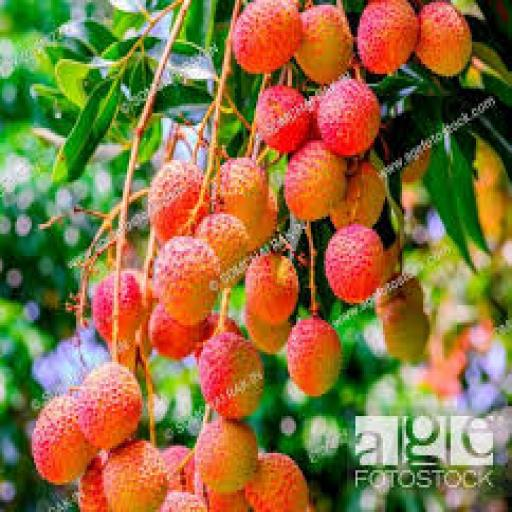lychee: (32, 397, 97, 484), (155, 237, 220, 324), (77, 362, 141, 450), (199, 333, 264, 418), (233, 0, 302, 73), (284, 141, 346, 221), (324, 224, 385, 302), (318, 79, 380, 155), (195, 419, 258, 492), (104, 441, 169, 511), (149, 160, 203, 243), (377, 276, 429, 361), (358, 0, 418, 73), (297, 5, 353, 83), (288, 318, 342, 396), (415, 3, 471, 76), (195, 212, 249, 287), (214, 158, 268, 226), (246, 254, 298, 324), (246, 453, 308, 511), (256, 87, 311, 152), (331, 163, 385, 228), (149, 306, 205, 359), (246, 311, 291, 354), (248, 190, 279, 251), (79, 453, 110, 511), (119, 271, 143, 342), (161, 446, 194, 492), (159, 490, 207, 511), (402, 148, 431, 182), (208, 490, 249, 511)
